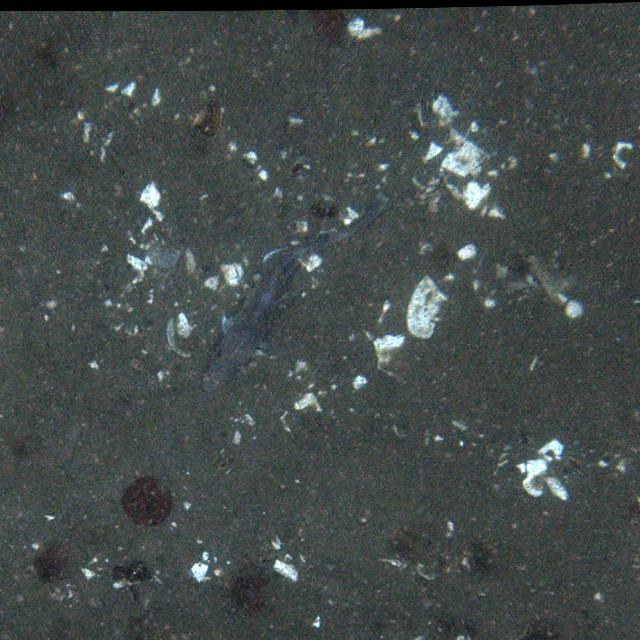roundfish: (200, 196, 405, 395)
